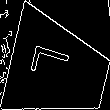L_E: (35, 48, 82, 91)
